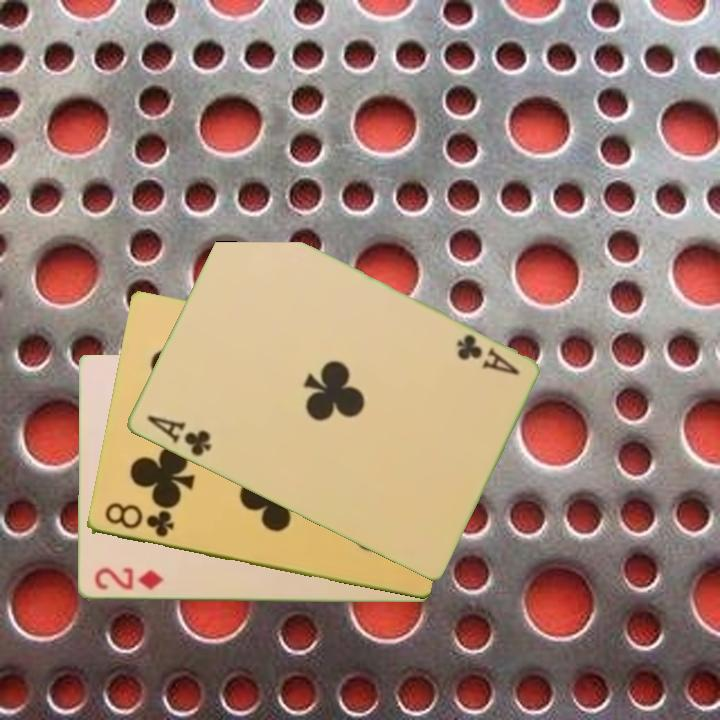2d: (90, 564, 165, 593)
8c: (101, 499, 177, 541)
Ac: (142, 411, 214, 460), (452, 330, 522, 379)
